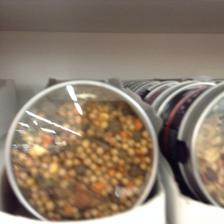Gewuerze: (3, 78, 157, 221)
